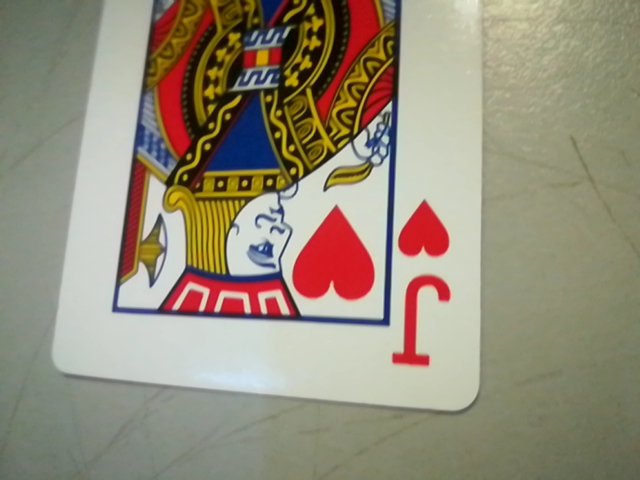hx j: (384, 193, 467, 383)
